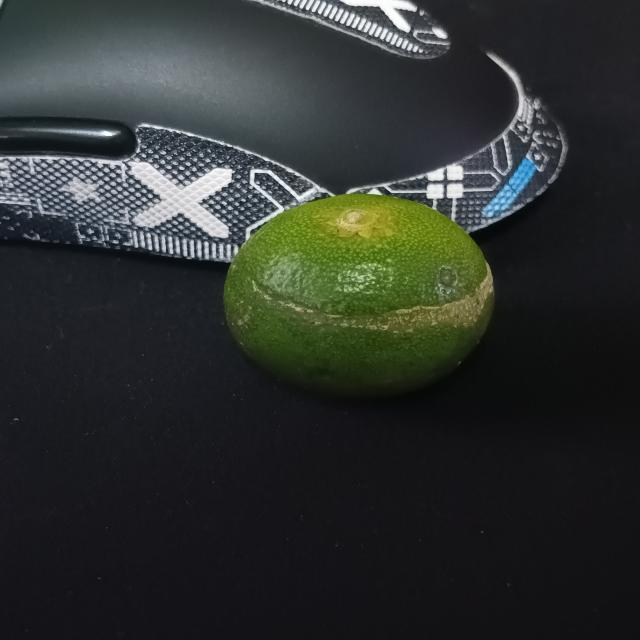thrips: (219, 184, 507, 398)
